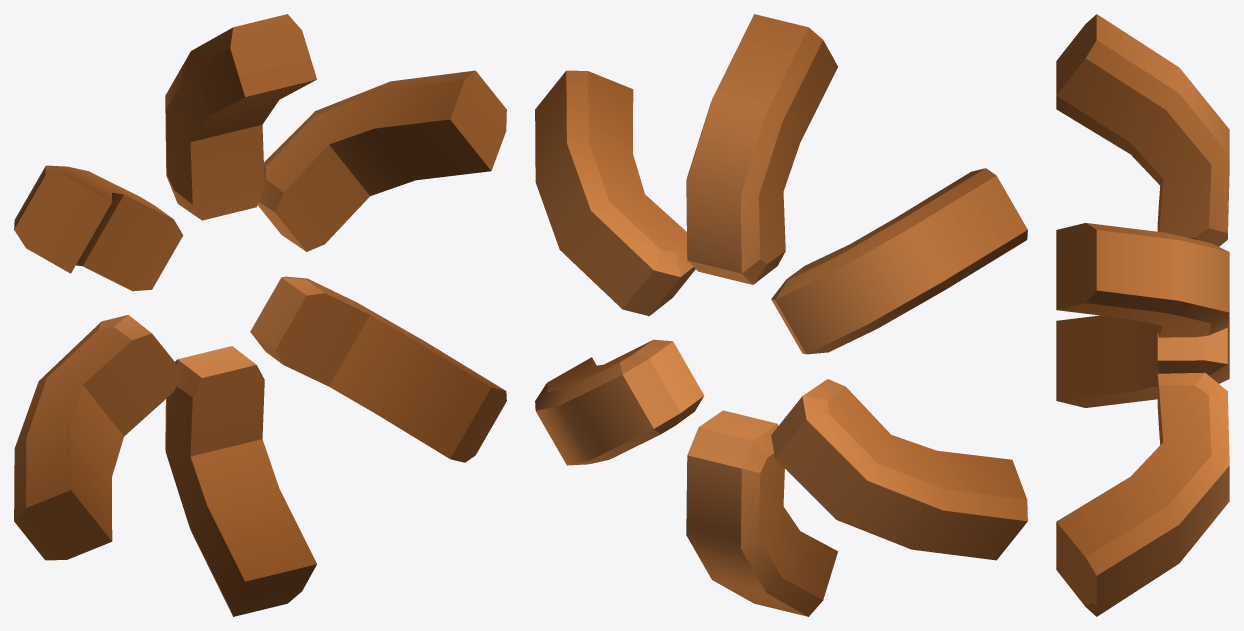
The model's file is Shrine 01.FBX.
3 renders of one model, left to right at view 1: azimuth 30°, elevation 25°; view 2: azimuth 150°, elevation 25°; view 3: azimuth 270°, elevation 25°, orthographic. The views are drawn at different scales.
Parts seen in each view (by area): view 1: Shrine 01; view 2: Shrine 01; view 3: Shrine 01.
Boxes of the visible parts, bbox=[...] form: Shrine 01: bbox=[14, 14, 506, 616]; Shrine 01: bbox=[535, 14, 1027, 616]; Shrine 01: bbox=[1056, 14, 1229, 616].
Bounding box in the file's own units: 460 × 526 × 143.
1 material, 1 textured.
